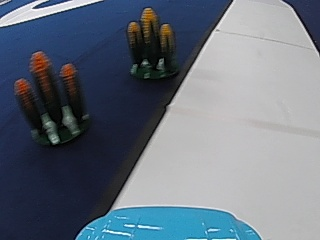corn: (16, 53, 89, 151), (126, 4, 178, 84)
